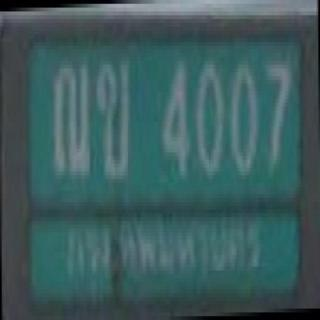A02: (94, 60, 138, 181)
A19: (46, 57, 97, 182)
N00: (227, 59, 262, 180), (195, 58, 226, 183)
N04: (154, 54, 195, 186)
N07: (262, 59, 296, 178)
P04: (54, 224, 269, 282)
